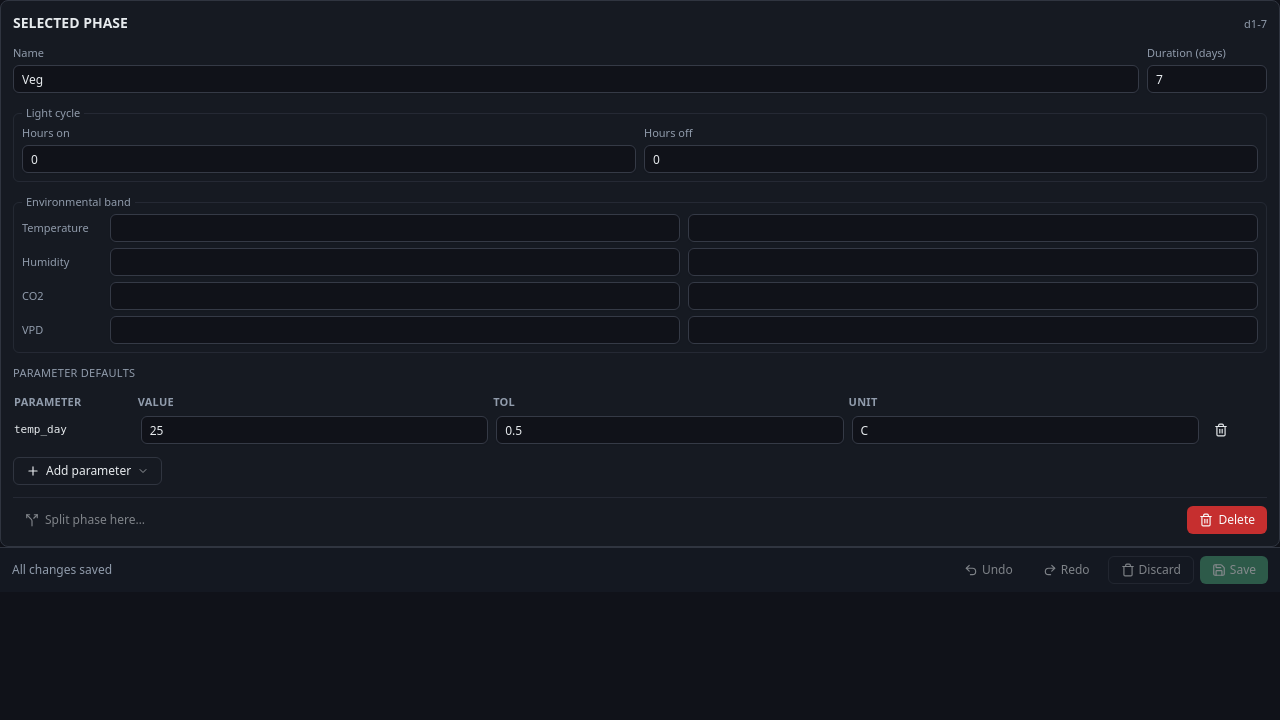
Test: <RecipeSaveBar> › step 1 failure leaves the draft dirty and surfaces the error
Replace the text in the field named "Value for temp_day" with "26" at (314, 430), box [141, 416, 488, 444]
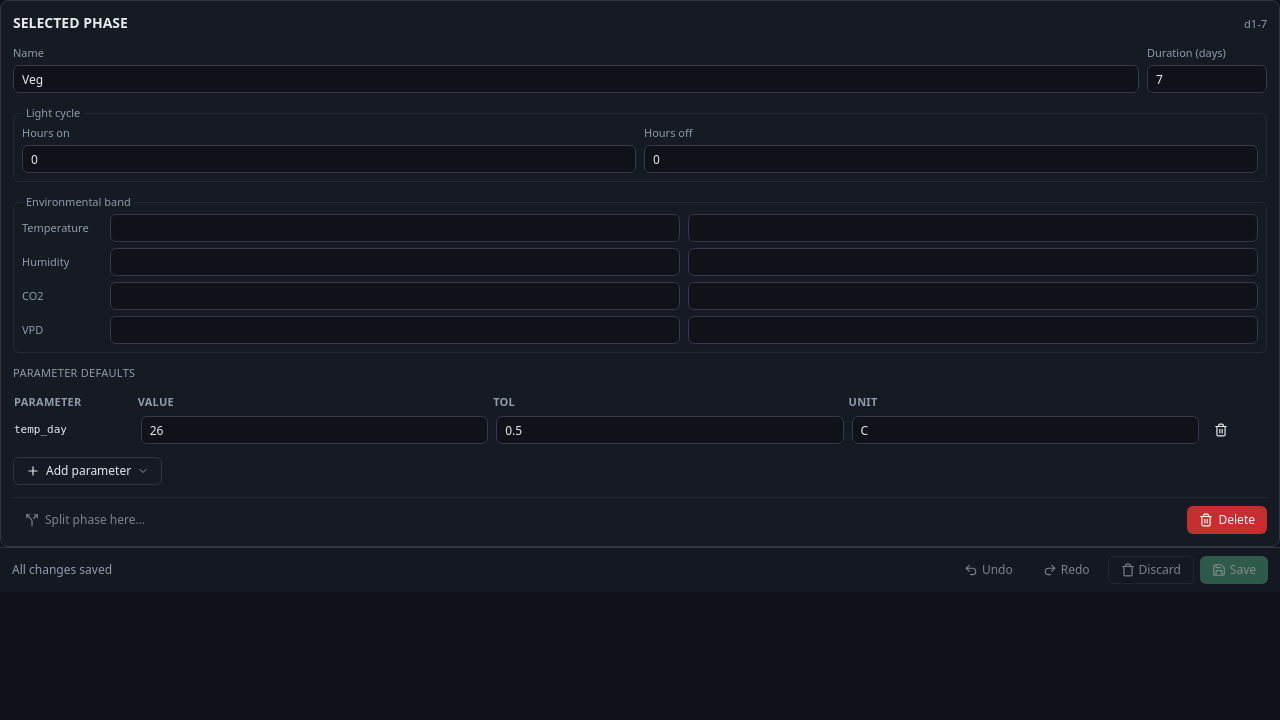
Leave the field named "Value for temp_day", box [141, 416, 488, 444]
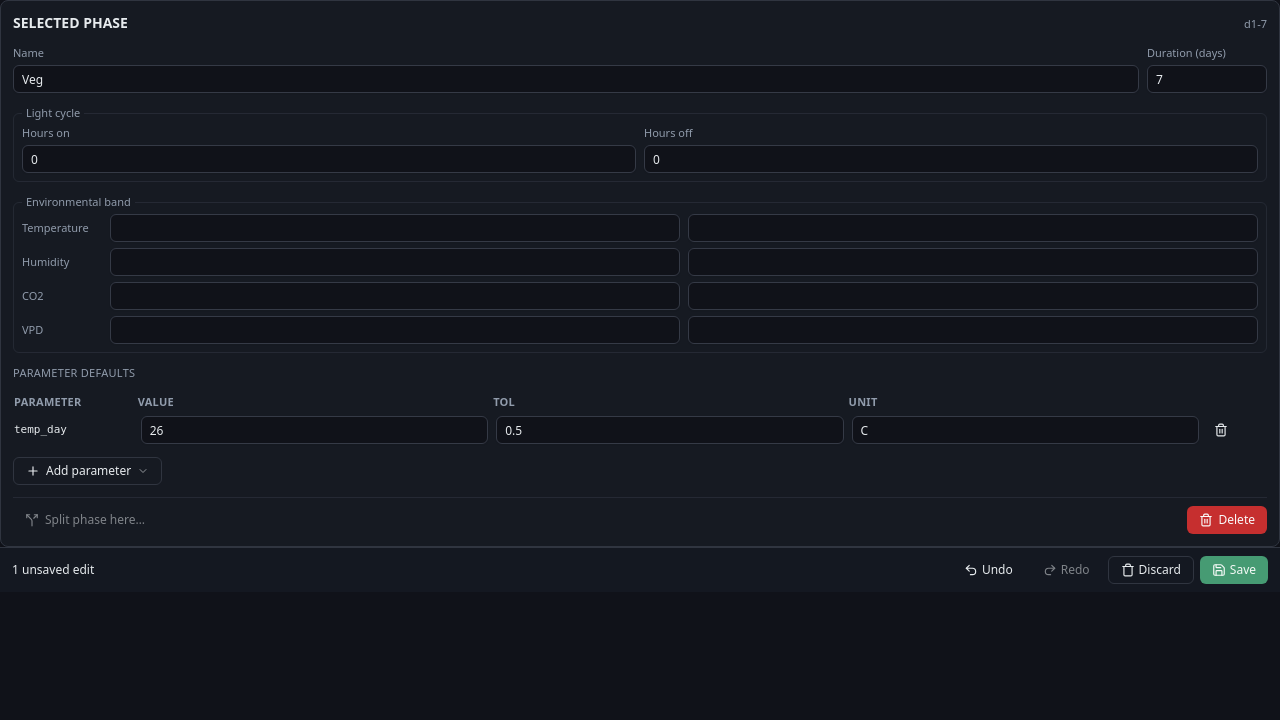
Expected: the text with test id "dirty-count" shows "unsaved", [12, 561, 94, 578]
Click the button with test id "save-button" at (1234, 570), box [1200, 556, 1268, 584]
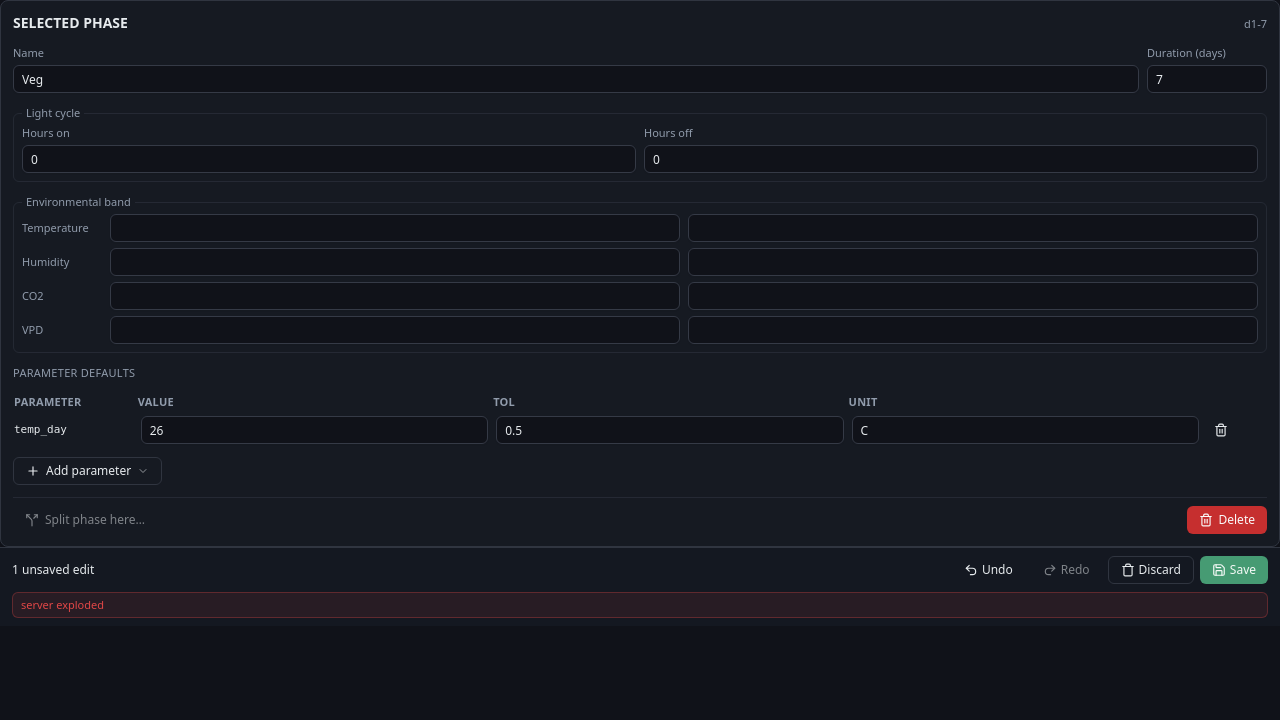
Expected: the text with test id "dirty-count" shows "unsaved", [12, 561, 94, 578]
Expected: the text "server exploded" is shown, [12, 592, 1268, 618]
